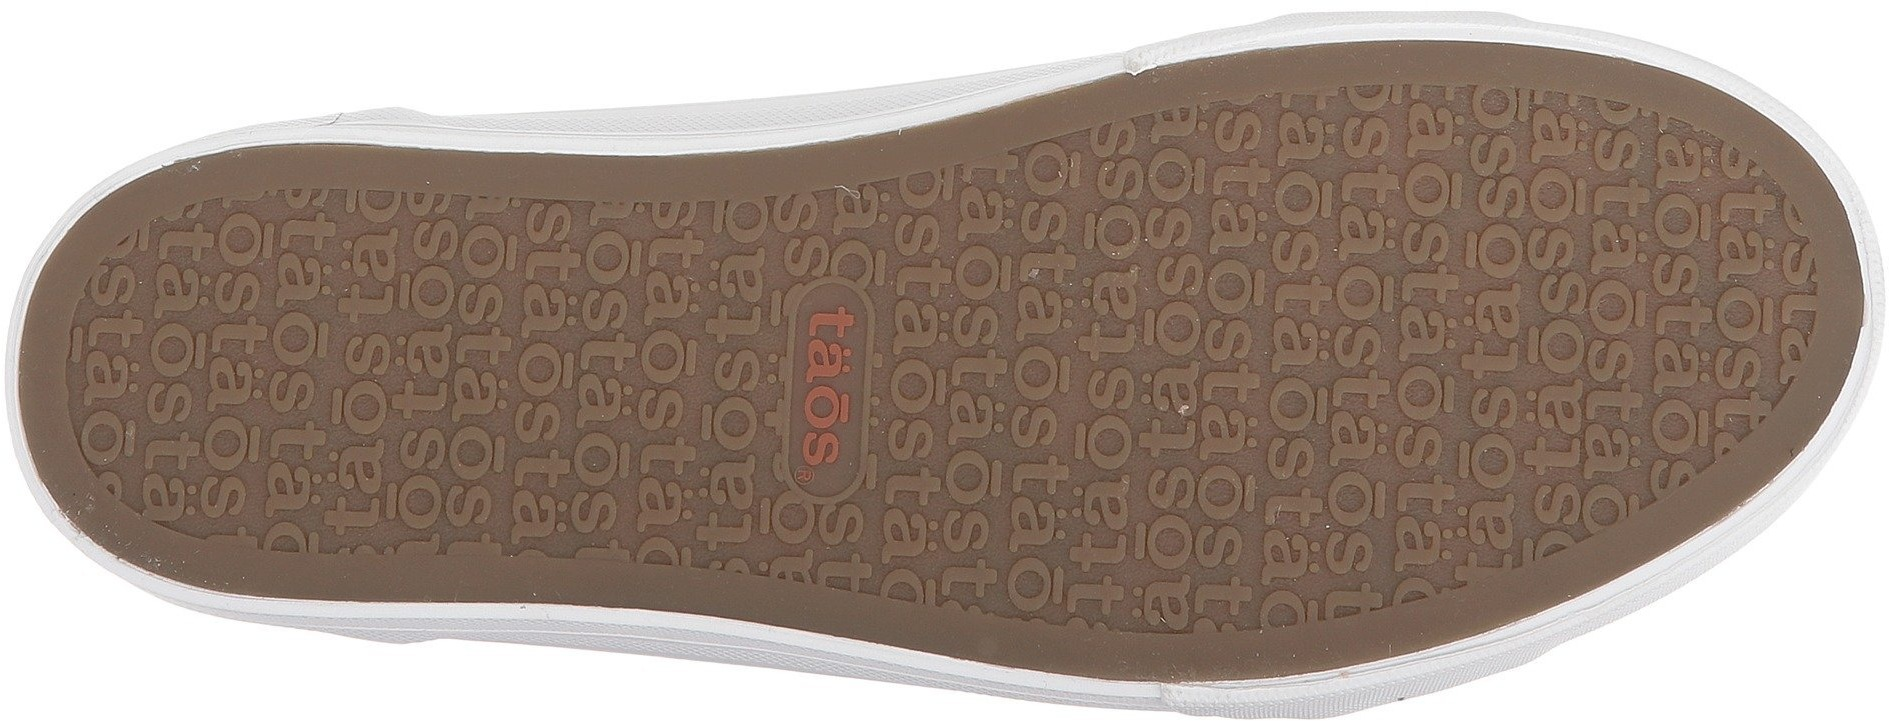text: (777, 289, 872, 488)
